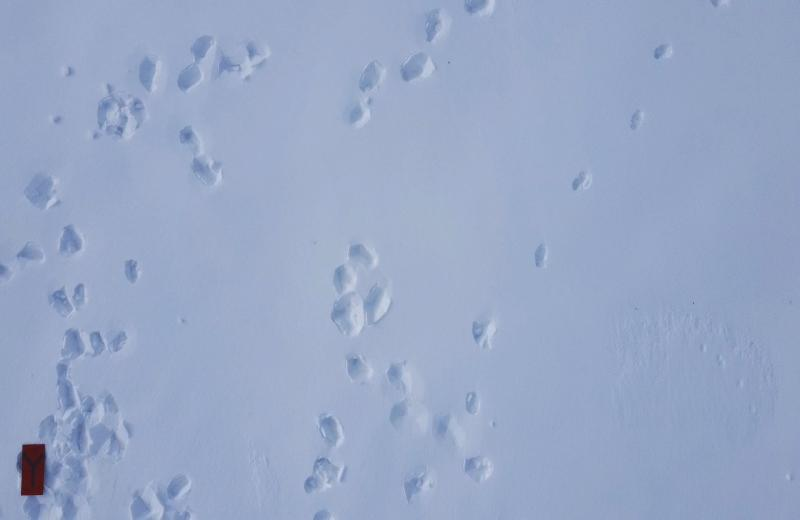Rectangle: (19, 441, 46, 499)
